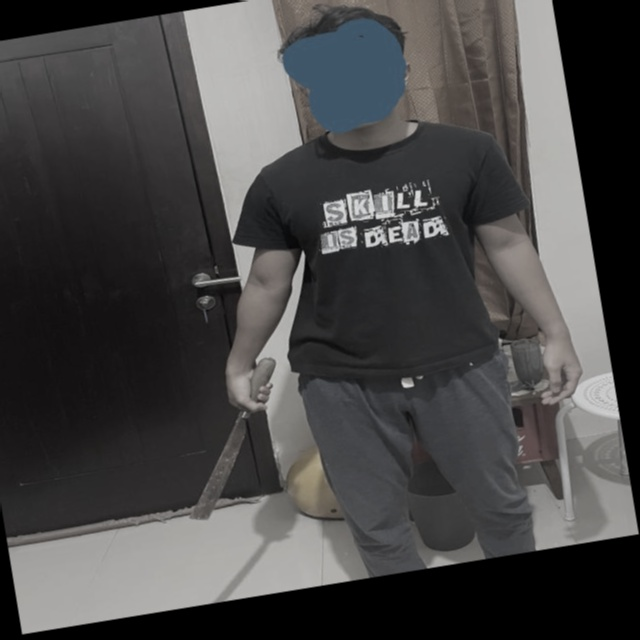Sharp-Object: (164, 353, 301, 524)
